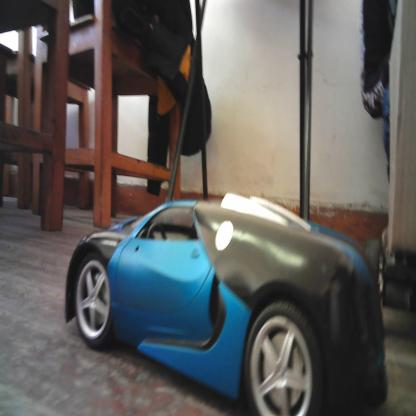LeadTruck: (366, 1, 416, 319)
